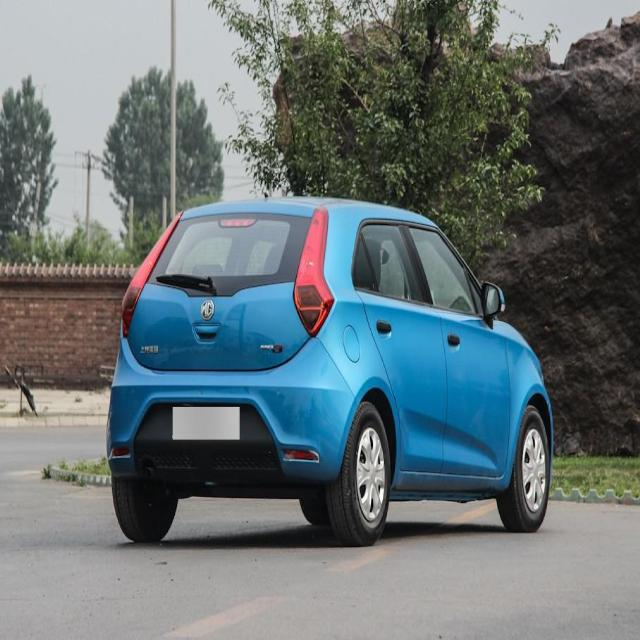back_glass: (146, 211, 313, 286)
back_left_side_light: (119, 206, 185, 338)
back_right_side_light: (290, 198, 336, 349)
door: (348, 219, 458, 486)
front_right_side_door: (404, 219, 511, 479)
front_right_side_mirror: (476, 278, 507, 331)
rear_bumper: (106, 332, 356, 480)
wheel: (320, 399, 393, 548), (494, 400, 552, 532), (109, 463, 180, 543)
